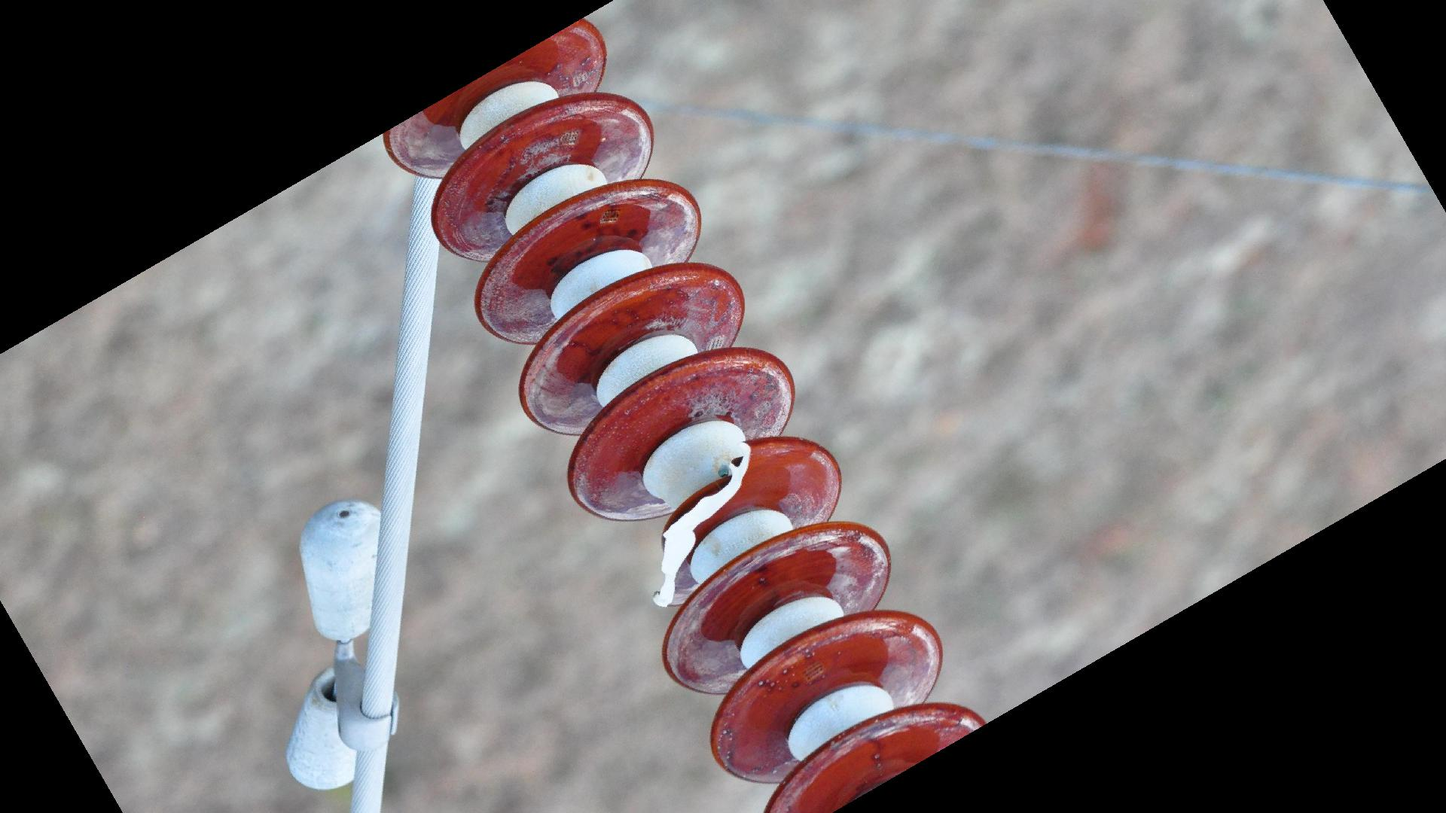insulator: (376, 12, 990, 813)
insulator_breakage: (647, 434, 762, 610)
